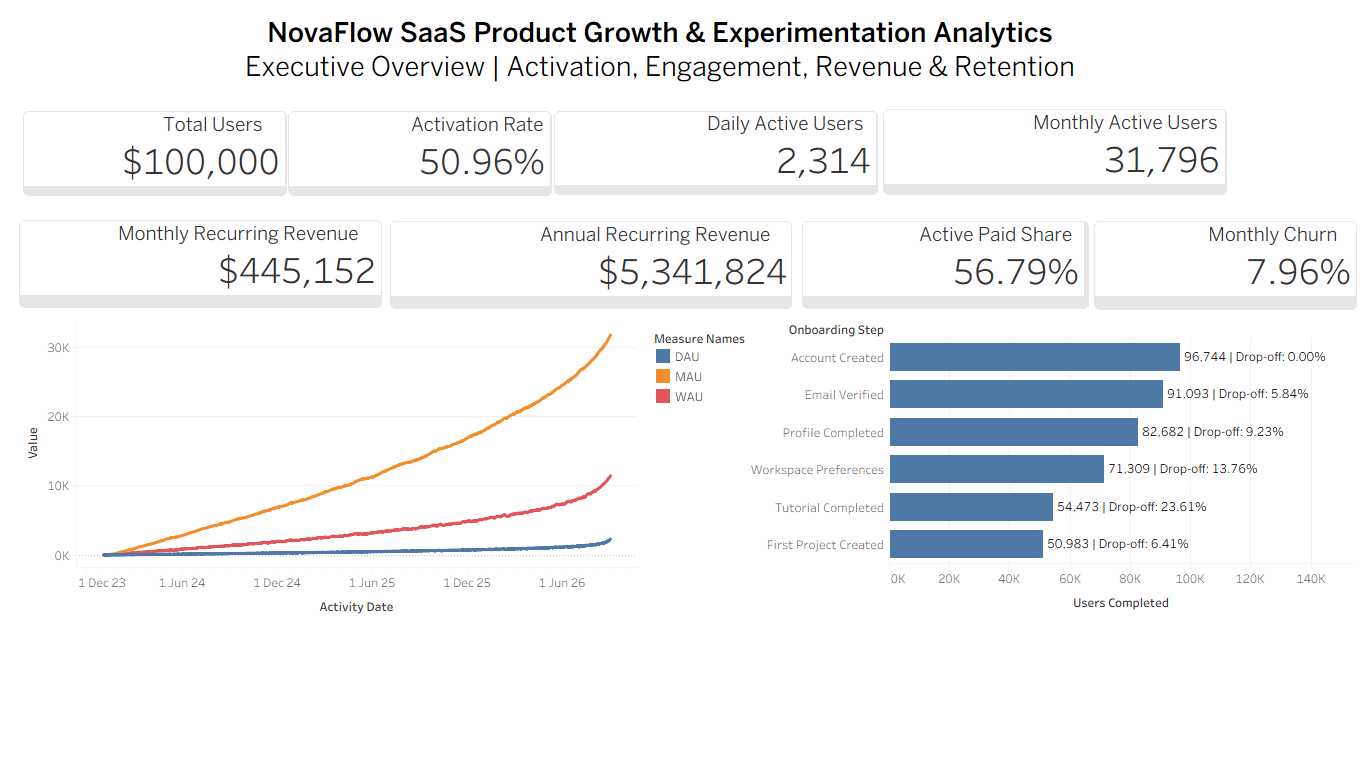

Layout of this report page (visuals, bound fields, positions):
{"tool":"tableau","page":{"name":"Executive Overview","canvas":[1366,768],"ordinal":0},"visuals":[{"type":"text","box":[20,10,1280,81]},{"type":"worksheet","title":"KPI - MAU","mark":"Automatic","box":[875,101,360,102]},{"type":"worksheet","title":"KPI - Total Users","mark":"Automatic","box":[15,103,280,101]},{"type":"worksheet","title":"KPI - Activation Rate","mark":"Automatic","box":[280,103,280,101]},{"type":"worksheet","title":"KPI - DAU","mark":"Automatic","box":[546,103,340,100]},{"type":"worksheet","title":"KPI - MRR","mark":"Automatic","box":[11,212,379,104]},{"type":"worksheet","title":"KPI - ARR","mark":"Automatic","box":[382,213,418,104]},{"type":"worksheet","title":"KPI - Active Paid Share","mark":"Automatic","box":[794,213,303,104]},{"type":"worksheet","title":"KPI - Monthly Churn","mark":"Automatic","box":[1086,213,279,105]},{"type":"worksheet","title":"Onboarding Funnel","mark":"Automatic","rows":["ONBOARDING_STEP"],"cols":["USERS_COMPLETED"],"box":[749,318,604,300]},{"type":"worksheet","title":"Engagement Trend","mark":"Automatic","cols":["ACTIVITY_DATE"],"box":[17,322,620,300]},{"type":"legend","title":"Engagement Trend","param":"[federated.0yw8o3e059pvqm15bd4cw0hbxdk2].[:Measure Names]","box":[653,328,140,78]}]}

Visuals, with their boxes in screenshot pixels (x1, y1, x2, y2), scaled from the page's 1366x768 canvas onto the 1366x768 screenshot:
text: (20, 10, 1300, 91)
"KPI - MAU" worksheet: (875, 101, 1235, 203)
"KPI - Total Users" worksheet: (15, 103, 295, 204)
"KPI - Activation Rate" worksheet: (280, 103, 560, 204)
"KPI - DAU" worksheet: (546, 103, 886, 203)
"KPI - MRR" worksheet: (11, 212, 390, 316)
"KPI - ARR" worksheet: (382, 213, 800, 317)
"KPI - Active Paid Share" worksheet: (794, 213, 1097, 317)
"KPI - Monthly Churn" worksheet: (1086, 213, 1365, 318)
"Onboarding Funnel" worksheet: (749, 318, 1353, 618)
"Engagement Trend" worksheet: (17, 322, 637, 622)
"Engagement Trend" legend: (653, 328, 793, 406)
